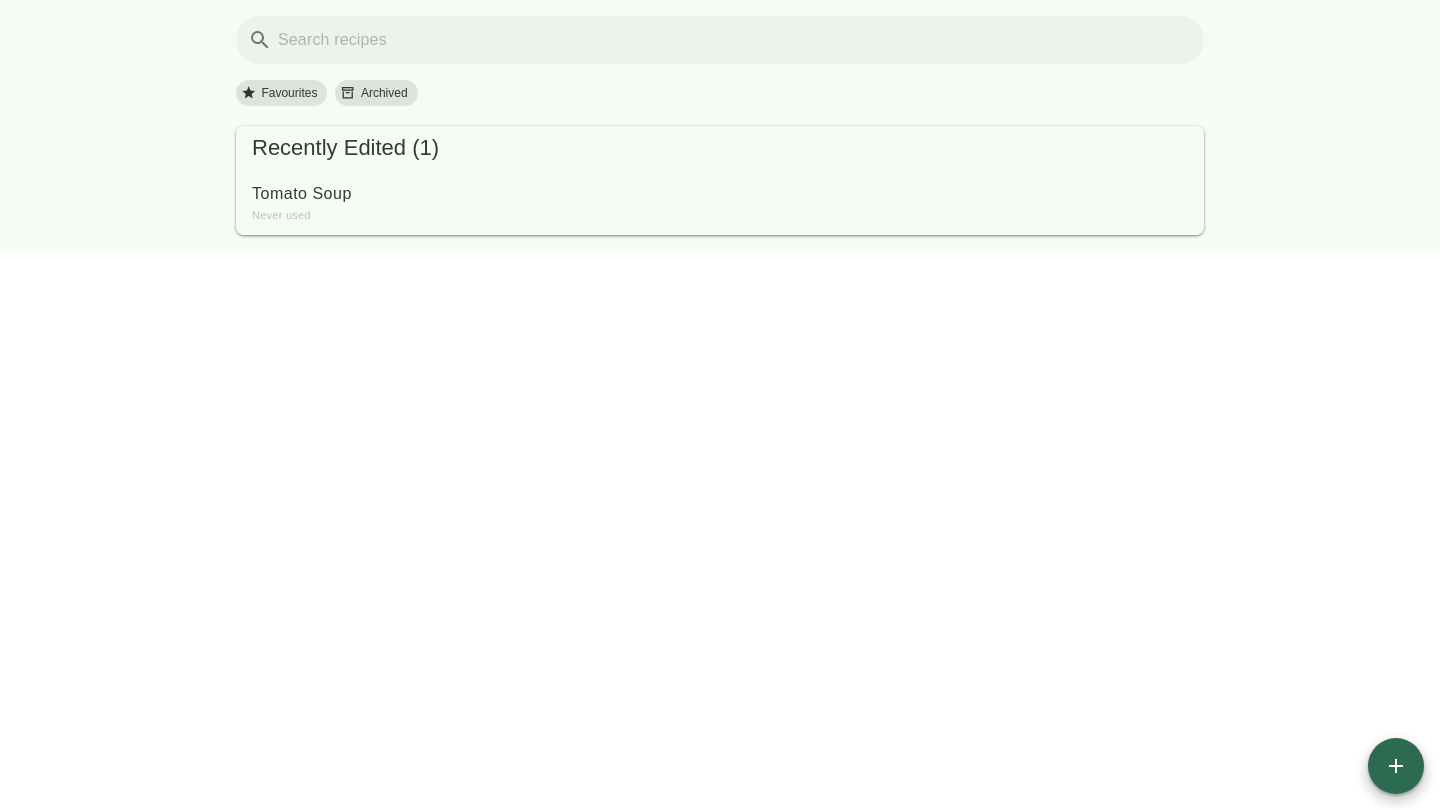
Test: RecipesView search filtering › shows a no-match message when the search has no results
The image size is (1440, 810).
Type "nonexistent" into the field with placeholder "Search recipes" at (732, 40), box 272,16 -> 1192,64
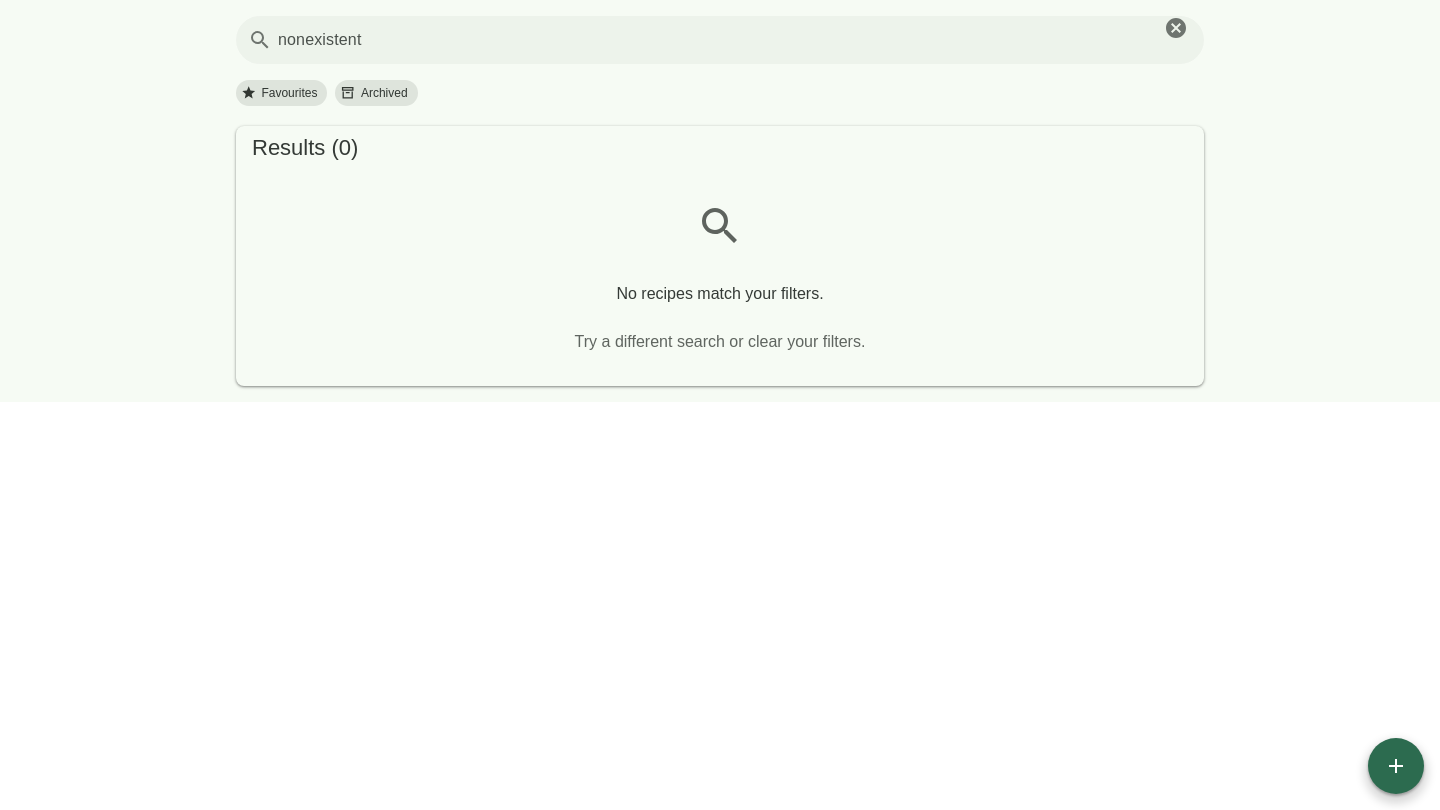
Check: no list items are shown
Check: the text "No recipes match your filters." is shown, box 616,282 -> 824,306
